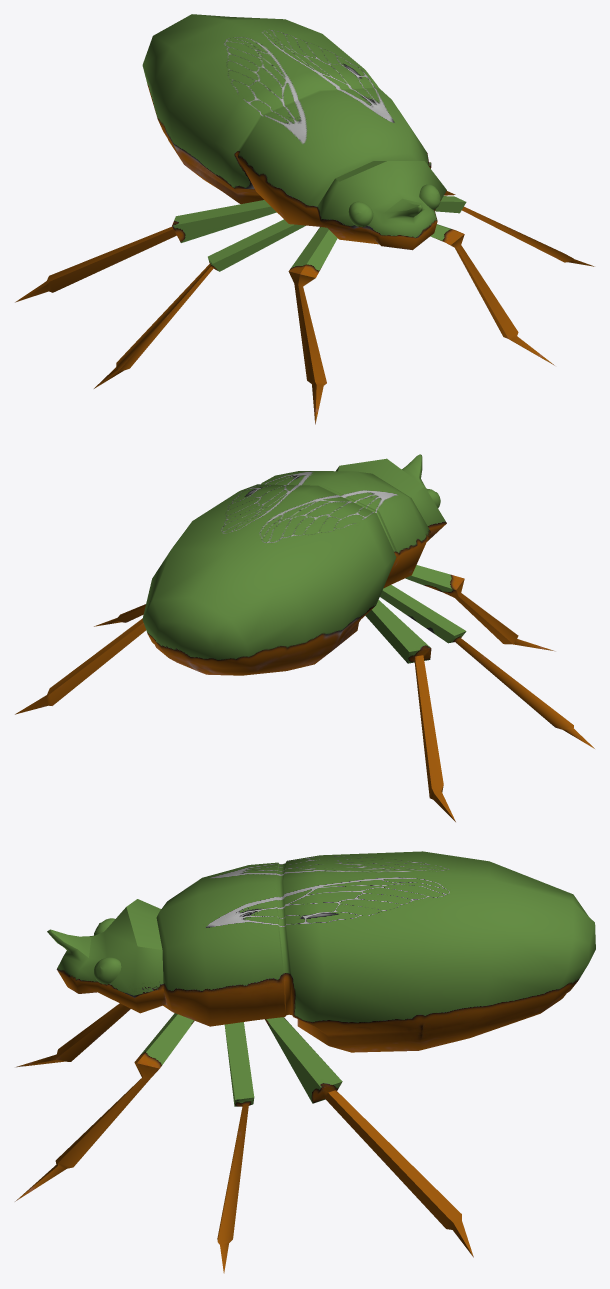
Rendered from bug.gltf.
3 renders of one model, top to bottom at view 1: azimuth 30°, elevation 25°; view 2: azimuth 150°, elevation 25°; view 3: azimuth 270°, elevation 25°, orthographic. The views are drawn at different scales.
Parts seen in each view (by area): view 1: beetle; view 2: beetle; view 3: beetle.
Boxes of the visible parts, left/top/right/bottom form: beetle: left=15, top=14, right=594, bottom=424; beetle: left=15, top=454, right=594, bottom=821; beetle: left=15, top=851, right=595, bottom=1273.
Bounding box in the file's own units: 2 × 0.8706 × 1.75.
Materials: 1 (1 with a texture image).
